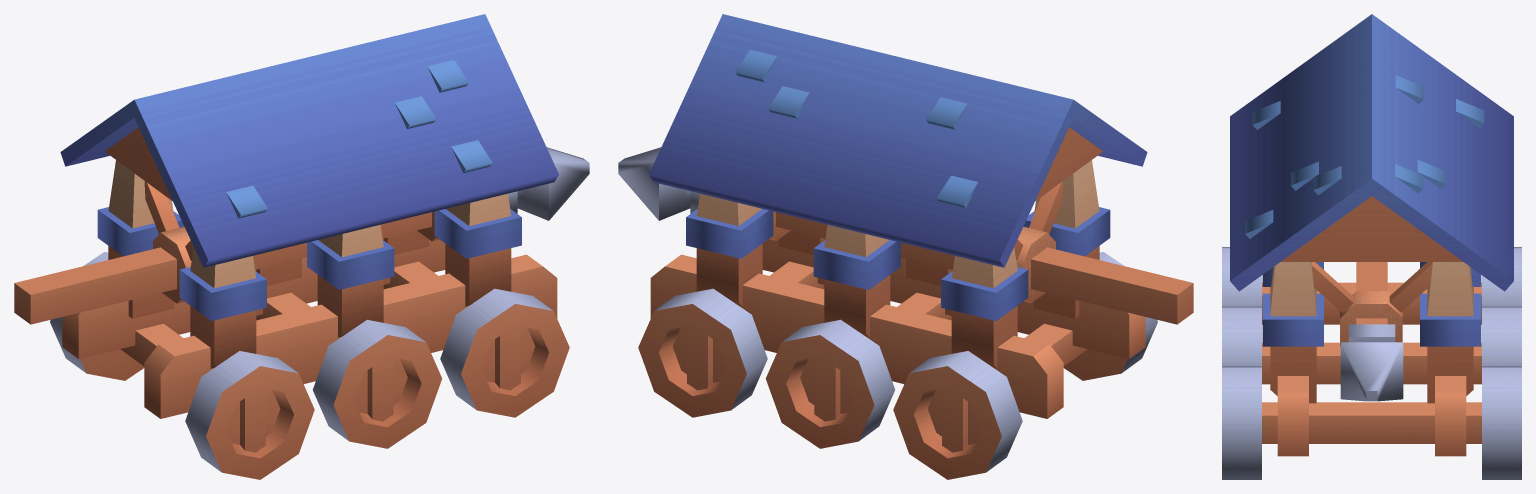
The model's file is siege-ram.glb.
The picture shows the model from 3 angles, left to right: view 1: azimuth 30°, elevation 25°; view 2: azimuth 150°, elevation 25°; view 3: azimuth 270°, elevation 25°; orthographic projection. The views are drawn at different scales.
Parts seen in each view (by area): view 1: siege-ram, wheel (×4), ram; view 2: siege-ram, wheel (×4), ram; view 3: siege-ram, wheel (×6), ram.
Boxes of the visible parts, bbox=[...] form: siege-ram: bbox=[60, 14, 558, 418]; wheel (×4): bbox=[50, 252, 569, 479]; ram: bbox=[14, 147, 589, 324]; siege-ram: bbox=[649, 14, 1147, 418]; wheel (×4): bbox=[638, 252, 1157, 479]; ram: bbox=[618, 147, 1193, 324]; siege-ram: bbox=[1230, 14, 1513, 456]; wheel (×6): bbox=[1222, 247, 1521, 479]; ram: bbox=[1340, 262, 1403, 401].
Bounding box in the file's own units: 2.09 × 1.18 × 1.
Materials: 1 (1 with a texture image).
